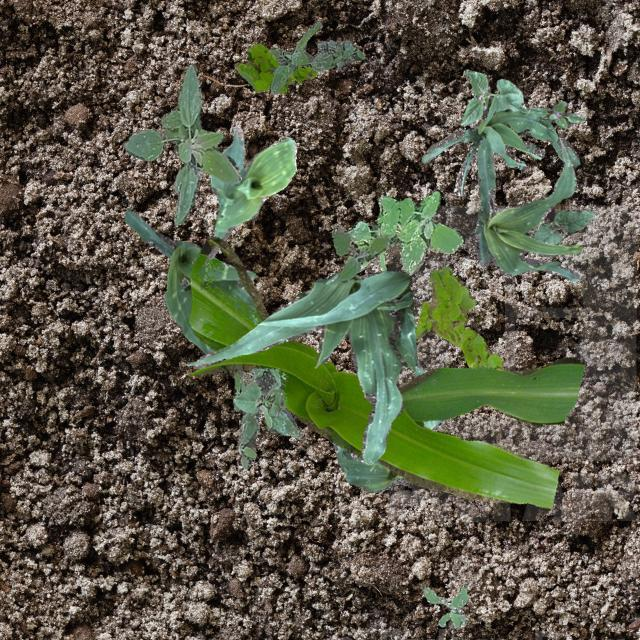crop: (187, 236, 584, 510), (185, 268, 416, 464), (124, 208, 260, 352), (421, 94, 578, 194), (474, 137, 582, 280), (332, 358, 444, 491), (202, 125, 296, 264), (460, 68, 530, 125), (534, 208, 594, 244), (232, 388, 282, 417)
weed: (124, 64, 240, 225), (344, 190, 462, 274), (413, 264, 502, 370), (232, 367, 300, 468), (268, 21, 364, 92), (234, 42, 316, 92), (330, 224, 390, 280), (422, 585, 468, 627), (528, 100, 584, 128)
